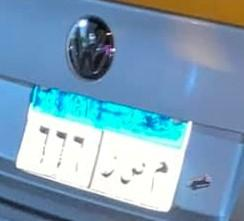6: (69, 132, 87, 174), (35, 120, 50, 165), (51, 128, 67, 169)
meem: (150, 158, 168, 195)
raa: (98, 156, 118, 180)
saad: (120, 159, 145, 196)
